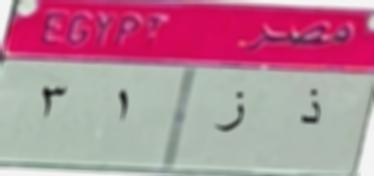1: (112, 81, 136, 126)
3: (33, 74, 74, 126)
zaal: (292, 80, 328, 133)
zay: (209, 85, 249, 142)
